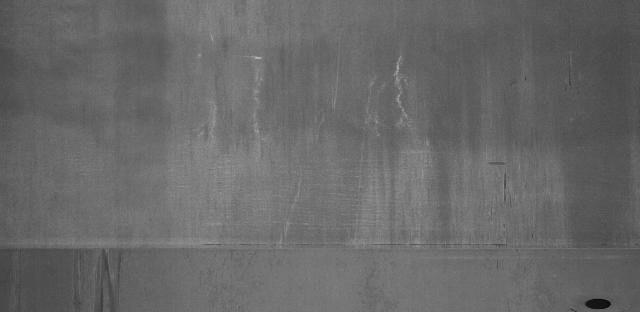punching_hole: (584, 295, 611, 312)
welding_line: (2, 232, 638, 263)
